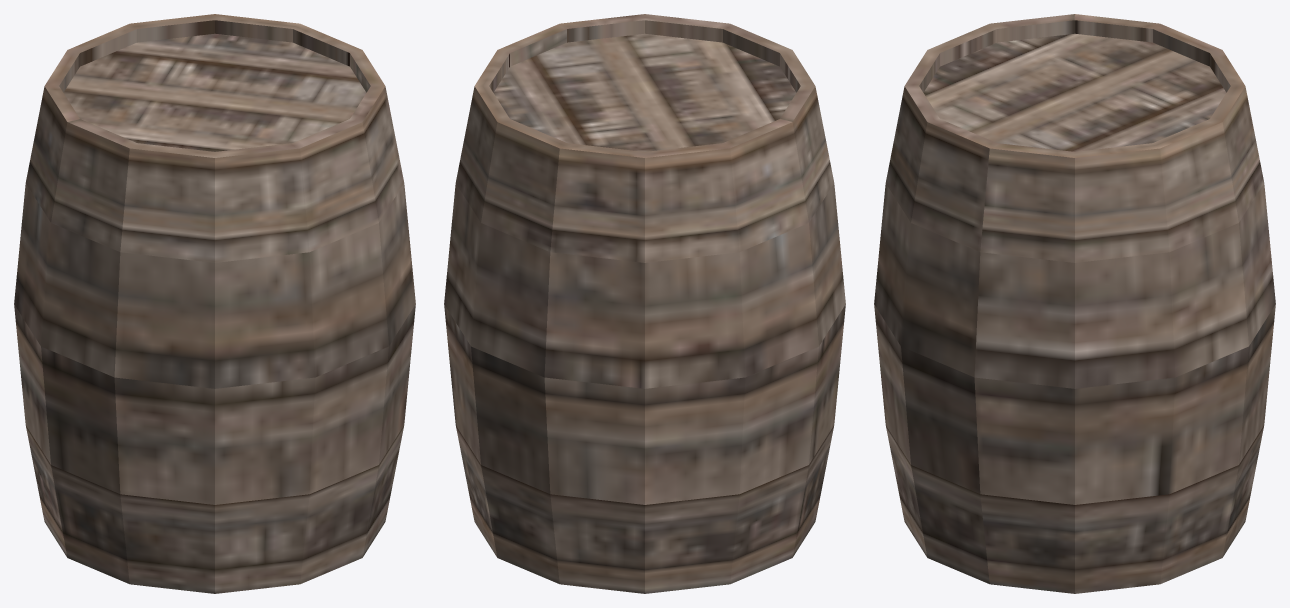
Rendered from barrel.fbx.
The picture shows the model from 3 angles, left to right: view 1: azimuth 30°, elevation 25°; view 2: azimuth 150°, elevation 25°; view 3: azimuth 270°, elevation 25°; orthographic projection.
Visible parts, largest first — view 1: Cylinder.001; view 2: Cylinder.001; view 3: Cylinder.001.
Part boxes in pixels (left/top/right/bottom): Cylinder.001: left=14, top=14, right=415, bottom=593; Cylinder.001: left=444, top=14, right=845, bottom=593; Cylinder.001: left=874, top=14, right=1275, bottom=593.
Bounding box in the file's own units: 78.05 × 93.42 × 78.05.
